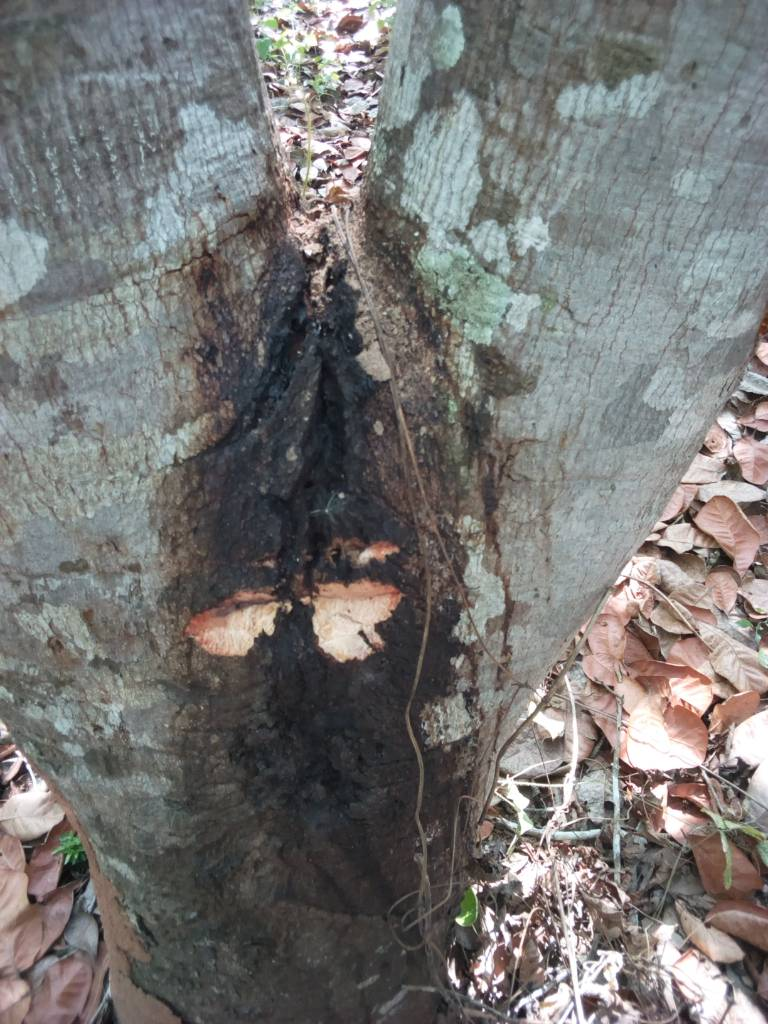Gommose: (225, 283, 408, 835)
